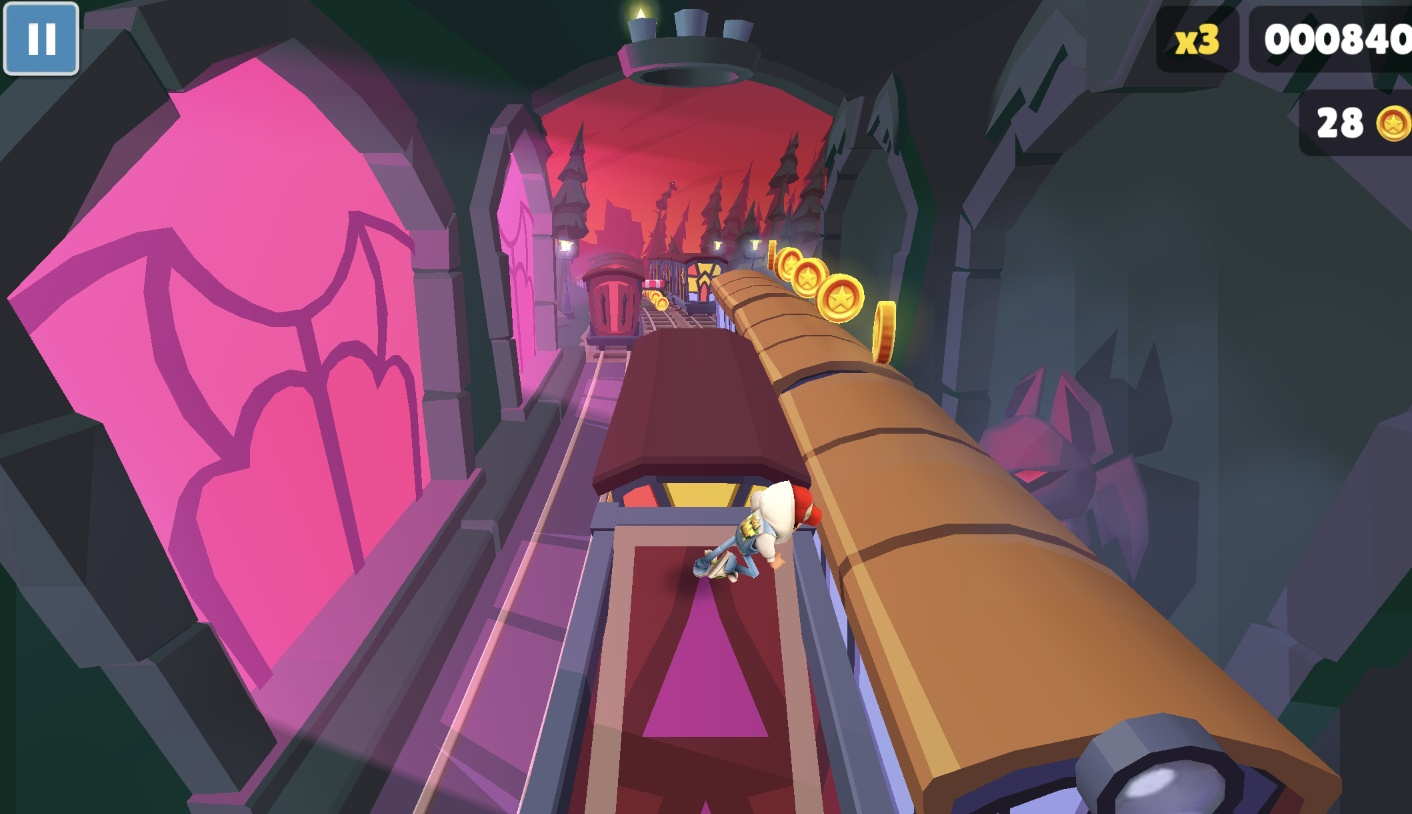ground_barrier: (638, 277, 666, 302)
train: (380, 317, 1026, 814), (711, 266, 1263, 814), (580, 257, 642, 348), (640, 252, 722, 317)
